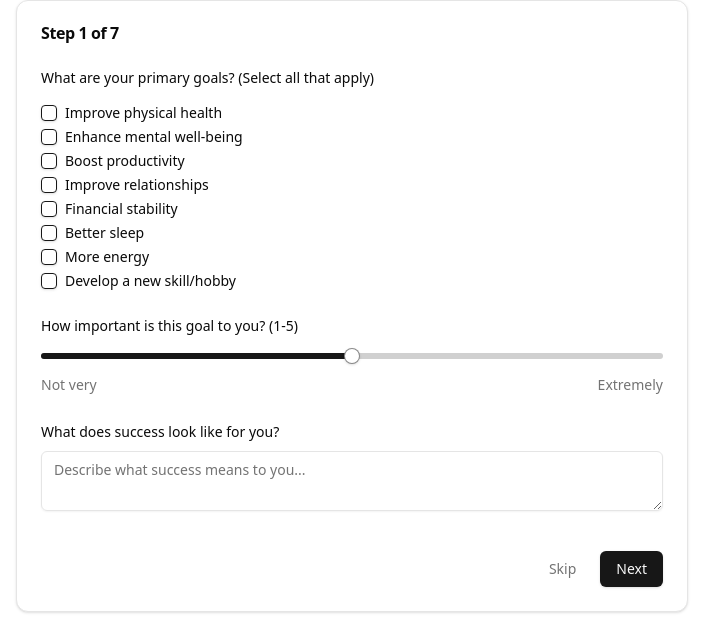
Test case: OnboardingForm › can go back to previous step
This screenshot has width=705, height=630.
// Go to step 2
Click the button "Next". click: (632, 569)
box: [600, 551, 663, 587]
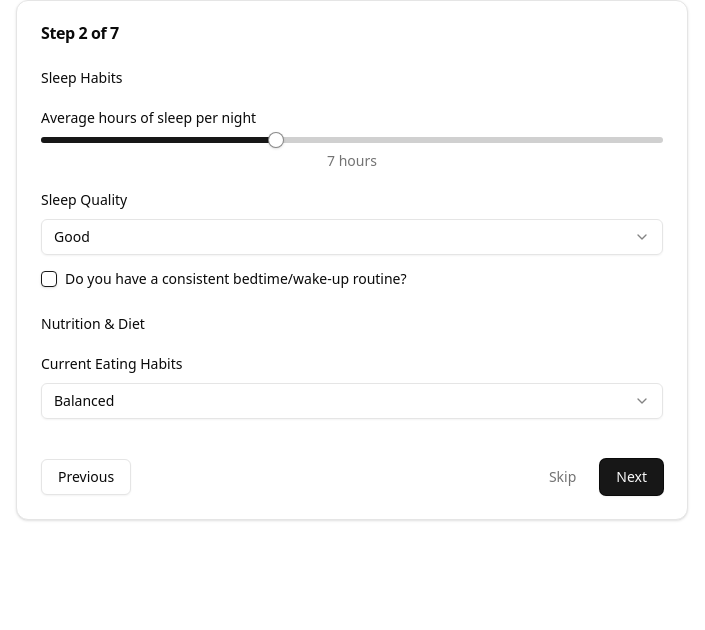
Expected: the heading "Step 2 of 7" is shown, [41, 22, 119, 44]
// Go back to step 1
Click the button "Previous". click: (86, 477)
box: [41, 459, 131, 495]
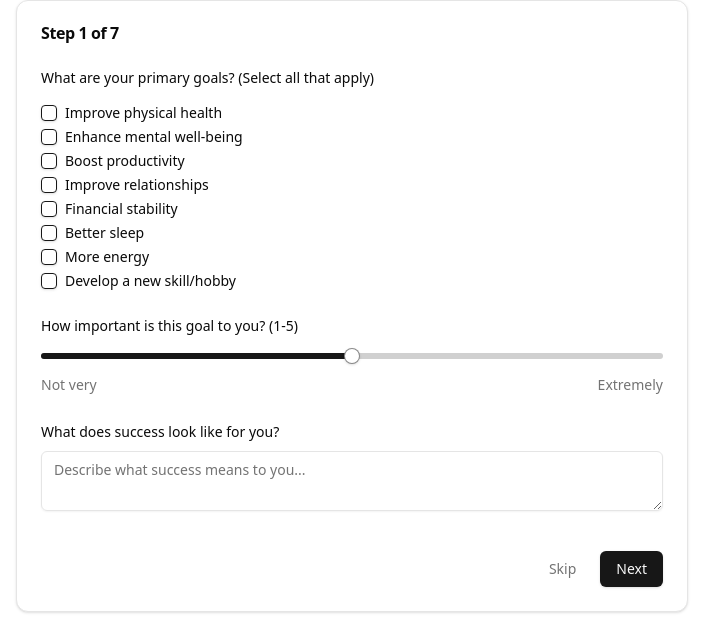
Expected: the heading "Step 1 of 7" is shown, [41, 22, 119, 44]
